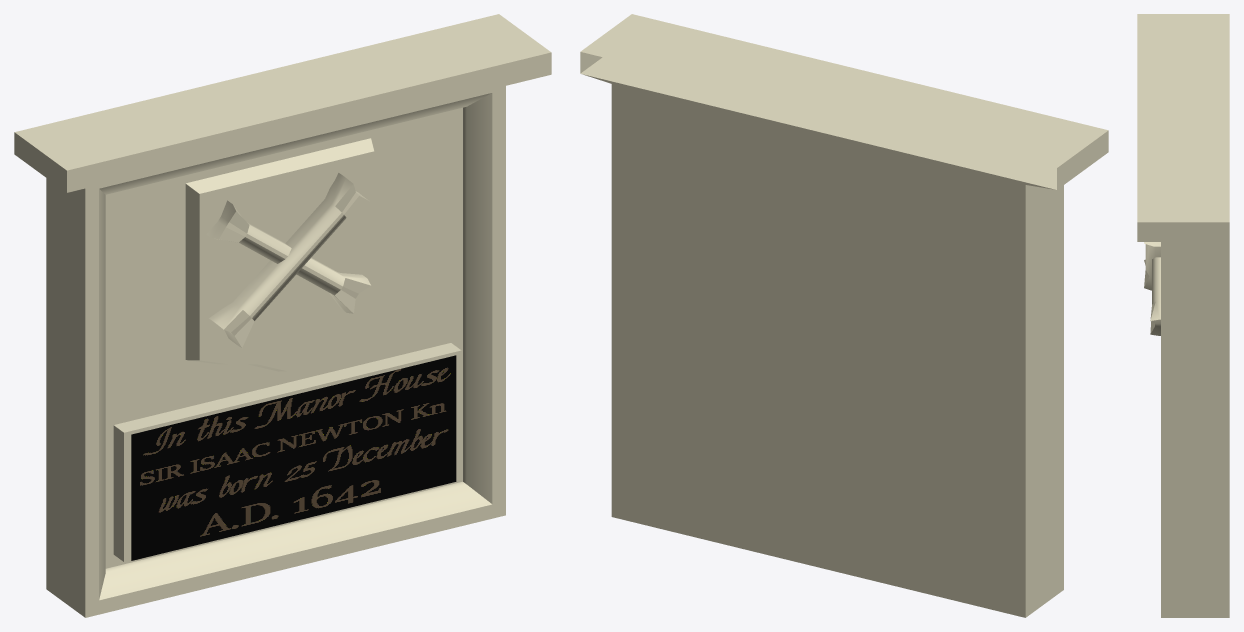
Rendered from NewtonPlaque.fbx.
3 renders of one model, left to right at view 1: azimuth 30°, elevation 25°; view 2: azimuth 150°, elevation 25°; view 3: azimuth 270°, elevation 25°, orthographic. The views are drawn at different scales.
Parts seen in each view (by area): view 1: Cube; view 2: Cube; view 3: Cube.
Boxes of the visible parts, left/top/right/bottom form: Cube: left=14, top=14, right=551, bottom=617; Cube: left=580, top=14, right=1108, bottom=617; Cube: left=1137, top=14, right=1229, bottom=617.
Bounding box in the file's own units: 115 × 106 × 21.62.
